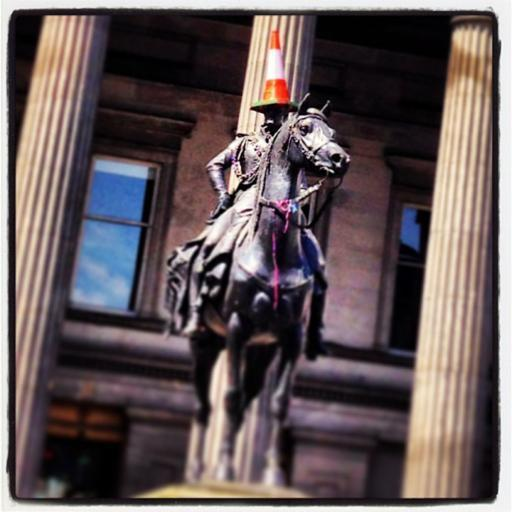horse: (162, 91, 350, 493)
